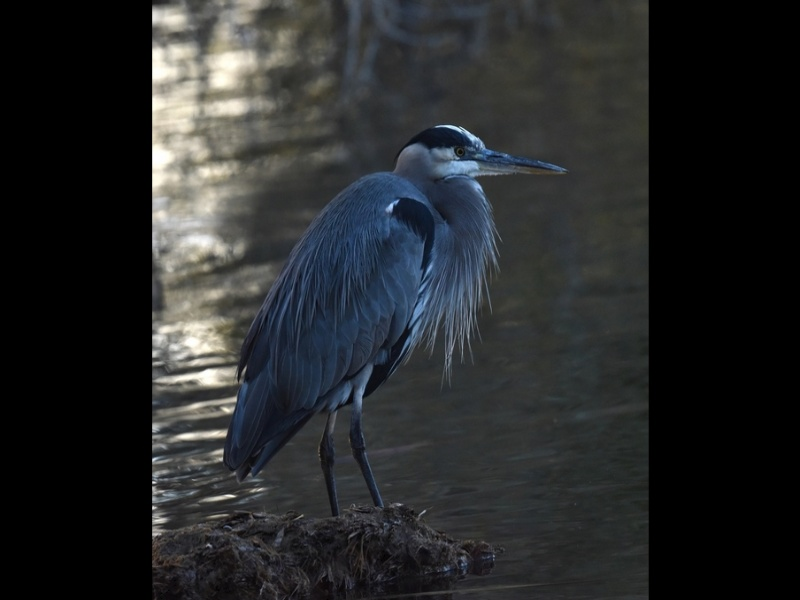heron: (221, 118, 568, 513)
